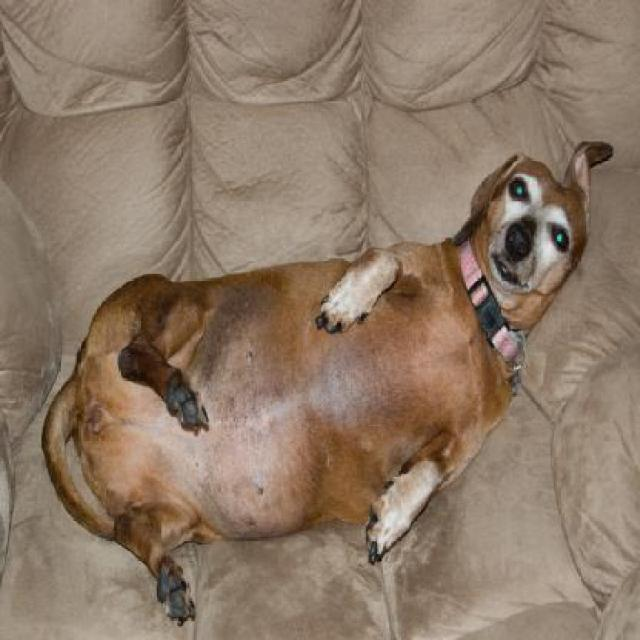Dog: (37, 131, 618, 618)
